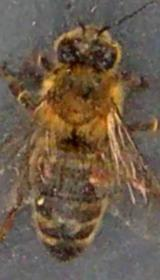varroa_mite: (80, 182, 100, 200)
